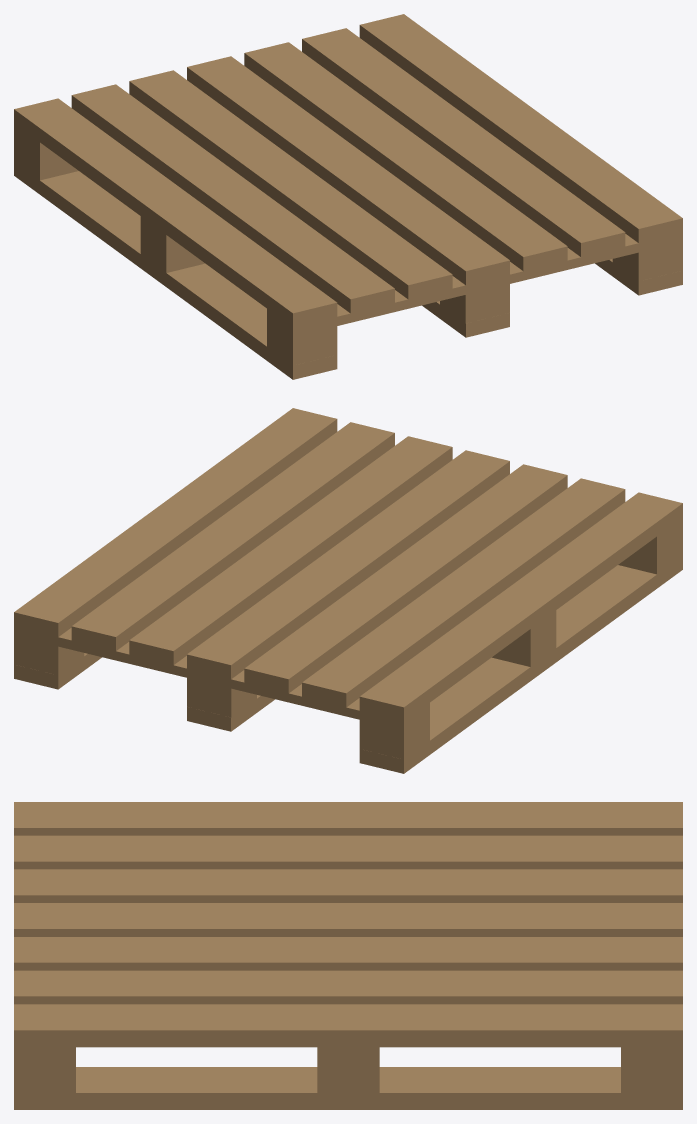
The model's file is paleta.fbx.
3 views of the same model, one above another, from view 1: azimuth 30°, elevation 25°; view 2: azimuth 150°, elevation 25°; view 3: azimuth 270°, elevation 25° (orthographic). The views are drawn at different scales.
Visible parts, largest first — view 1: Cube.001; view 2: Cube.001; view 3: Cube.001.
Part boxes in pixels (x1,y1,x2,y2): Cube.001: [14, 14, 682, 379]; Cube.001: [14, 408, 682, 773]; Cube.001: [14, 802, 682, 1109].
Bounding box in the file's own units: 173 × 140 × 22.81.
